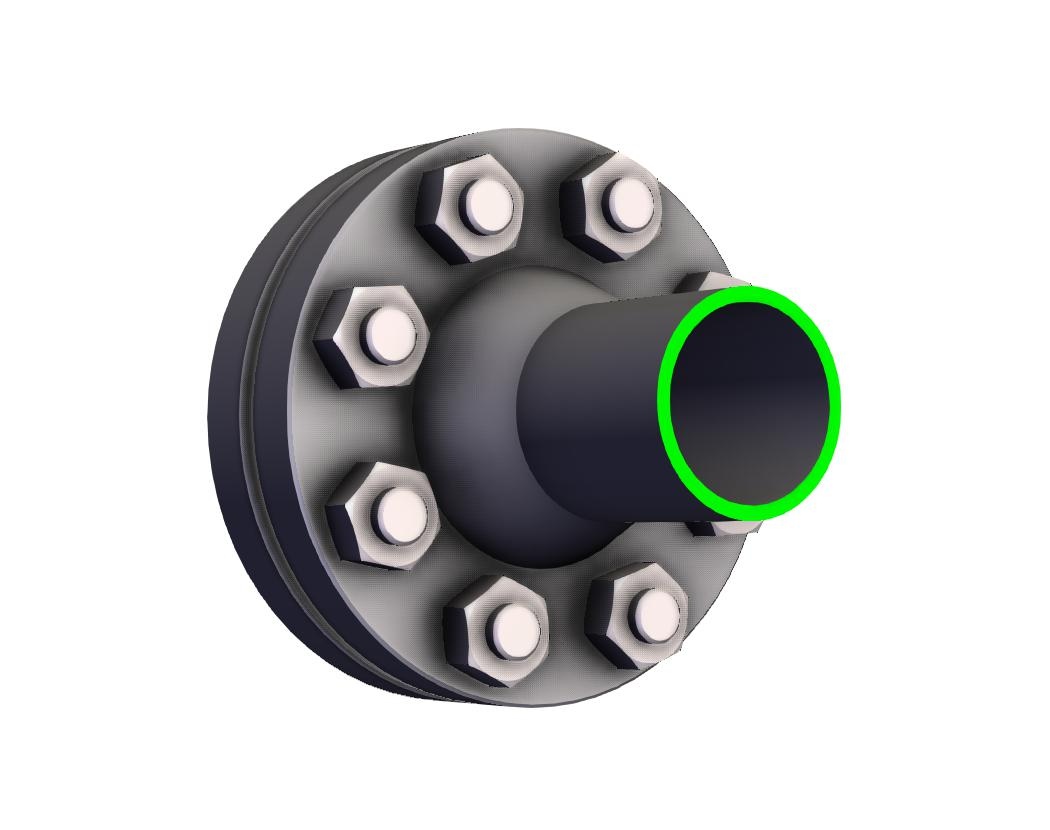bolt_b: (312, 280, 434, 393), (323, 460, 442, 573), (415, 150, 524, 265), (443, 574, 550, 691), (583, 562, 692, 672), (558, 151, 664, 262)
